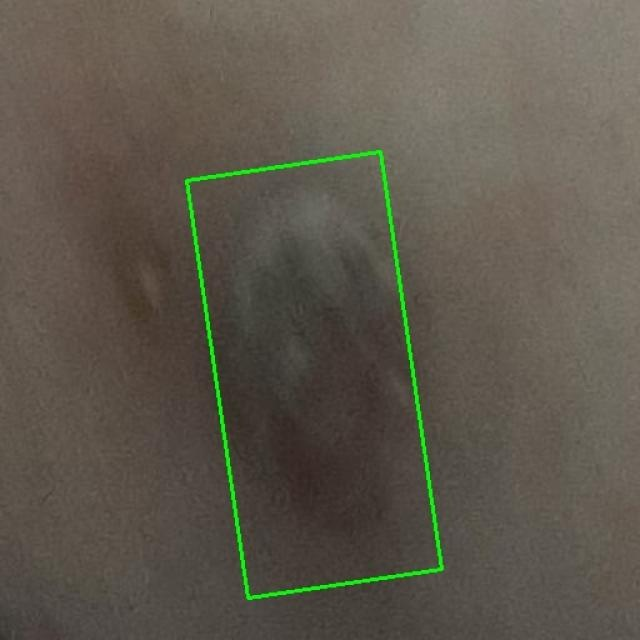Eczema: (187, 152, 442, 598)
